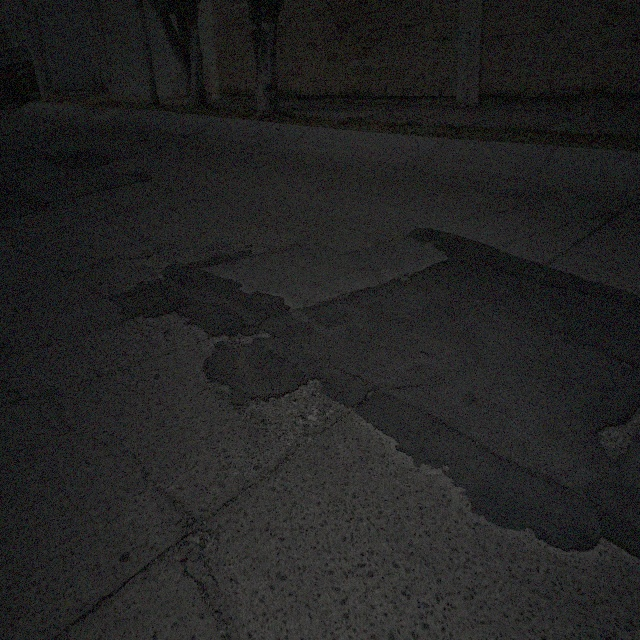pothole: (152, 517, 212, 571), (596, 408, 637, 468), (214, 322, 274, 348)
